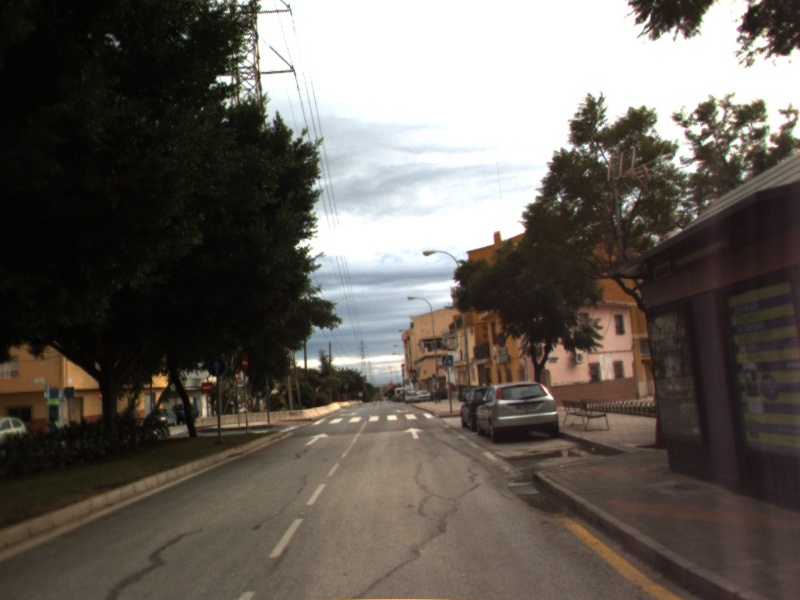STRAIGHT: (302, 431, 331, 448), (402, 425, 426, 441)
